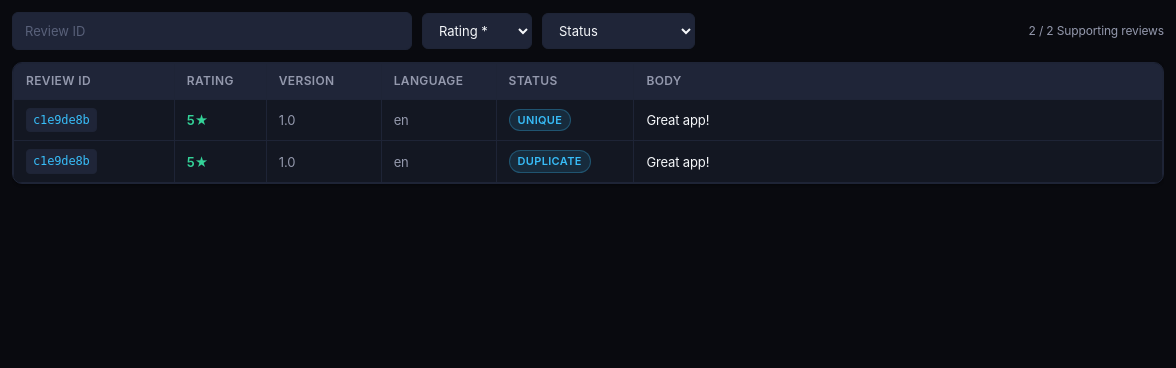
Test: ReviewsTable › renders duplicate reviews with identical reviewId without React key errors and allows expanding
The image size is (1176, 368).
# Clicking the first row expands only the first row's detail
Click the text "Great app!" next to "unique" at [898, 120], box x1=634 y1=99 x2=1162 y2=141
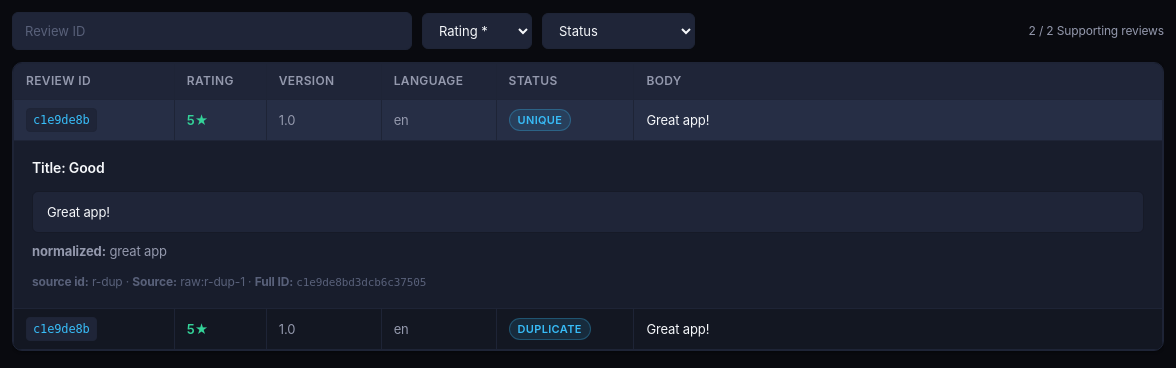
expect the text "raw:r-dup-1" is shown: met, box x1=180 y1=274 x2=245 y2=289
